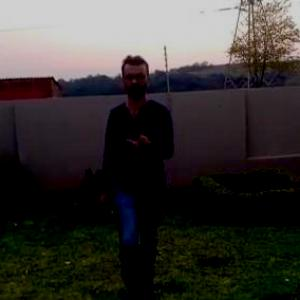land_hand: (122, 120, 160, 158)
